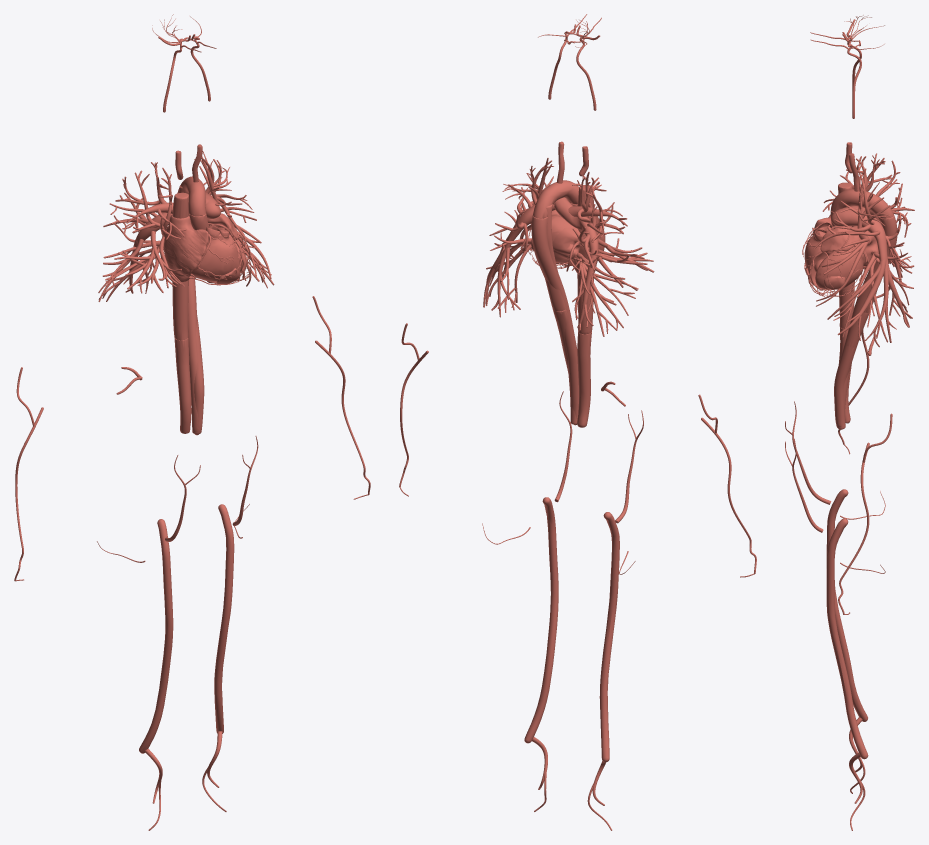
Rendered from circulatory.glb.
3 renders of one model, left to right at view 1: azimuth 30°, elevation 25°; view 2: azimuth 150°, elevation 25°; view 3: azimuth 270°, elevation 25°, orthographic.
Parts seen in each view (by area): view 1: femoral-artery, heart, pulmonary-artery, pulmonary-vein, aorta, inferior-vena-cava, radial-artery, carotid-artery; view 2: femoral-artery, pulmonary-artery, aorta, pulmonary-vein, inferior-vena-cava, heart, carotid-artery, radial-artery; view 3: pulmonary-artery, femoral-artery, heart, aorta, pulmonary-vein, carotid-artery, radial-artery, inferior-vena-cava.
Part boxes in pixels (x1,y1,x2,y2): femoral-artery: (97,436,258,830); heart: (162,213,253,285); pulmonary-artery: (98,151,274,394); pulmonary-vein: (98,156,271,301); aorta: (177,176,208,435); inferior-vena-cava: (172,280,191,433); radial-artery: (14,296,370,581); carotid-artery: (152,14,216,182); femoral-artery: (482,391,643,830); pulmonary-artery: (483,160,654,406); aorta: (531,180,579,425); pulmonary-vein: (485,158,653,336); inferior-vena-cava: (577,274,593,427); heart: (528,210,605,275); carotid-artery: (538,14,601,183); radial-artery: (399,323,756,577); pulmonary-artery: (806,153,914,355); femoral-artery: (785,401,885,830); heart: (802,214,878,296); aorta: (830,189,897,429); pulmonary-vein: (807,156,912,342); carotid-artery: (810,15,884,191); radial-artery: (838,286,892,614); inferior-vena-cava: (838,281,854,423).
Size of the model in its own units: 1.12 by 2.42 by 0.3589.
